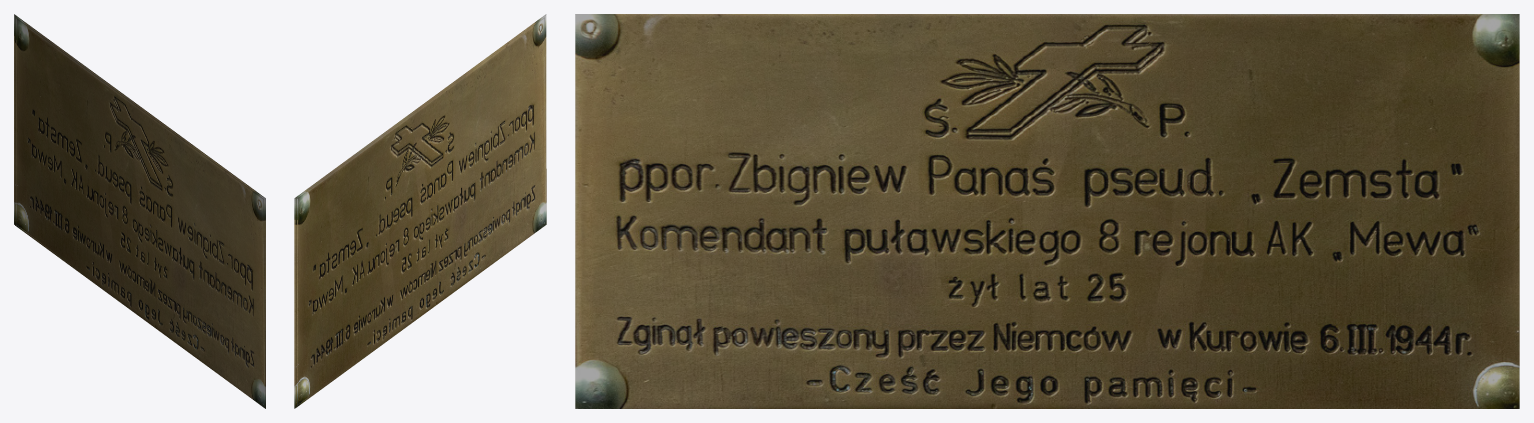
Rendered from 59. ŚP. ppor ZBIGNIEW PANAŚ pseud. ”Zemsta”.glb.
3 renders of one model, left to right at view 1: azimuth 30°, elevation 25°; view 2: azimuth 150°, elevation 25°; view 3: azimuth 270°, elevation 25°, orthographic. The views are drawn at different scales.
Parts seen in each view (by area): view 1: Plane; view 2: Plane; view 3: Plane.
Boxes of the visible parts, bbox=[...] form: Plane: bbox=[14, 14, 265, 408]; Plane: bbox=[294, 14, 546, 408]; Plane: bbox=[575, 14, 1519, 408].
Bounding box in the file's own units: 0.0102 × 6 × 13.
Materials: 1 (1 with a texture image).
